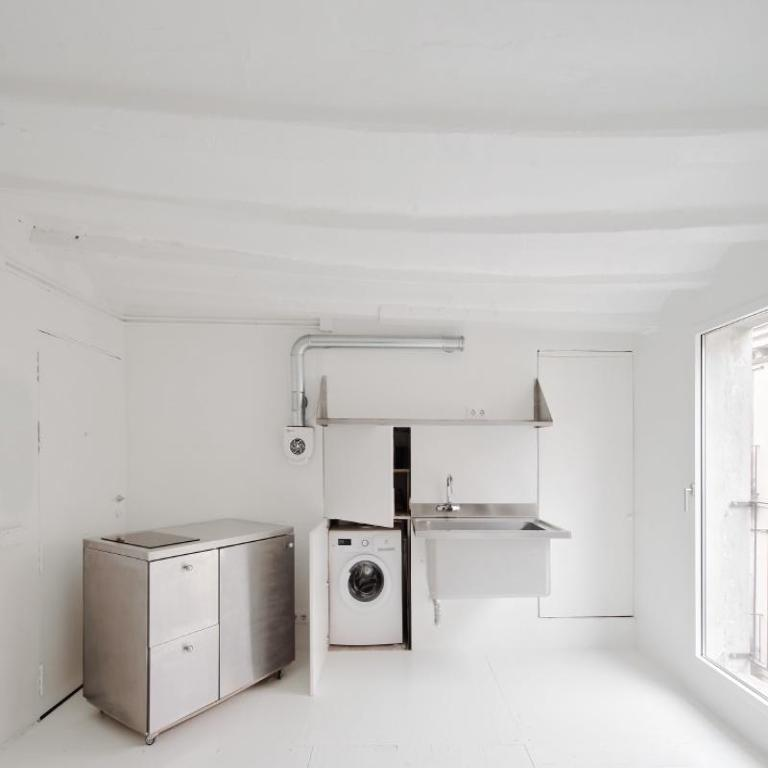white-walls: (150, 337, 273, 498)
